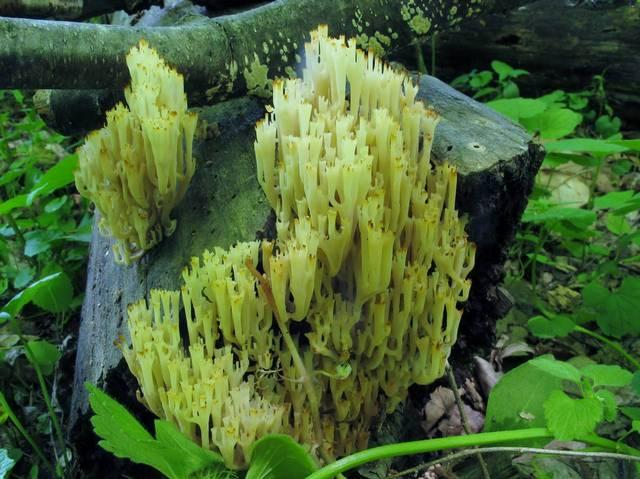Edible Mushroom: (63, 25, 544, 470), (72, 38, 200, 265)
